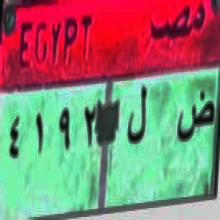1: (30, 104, 47, 163)
2: (80, 99, 98, 152)
4: (4, 108, 22, 168)
9: (56, 100, 73, 159)
daad: (174, 90, 215, 152)
laam: (125, 82, 150, 148)
